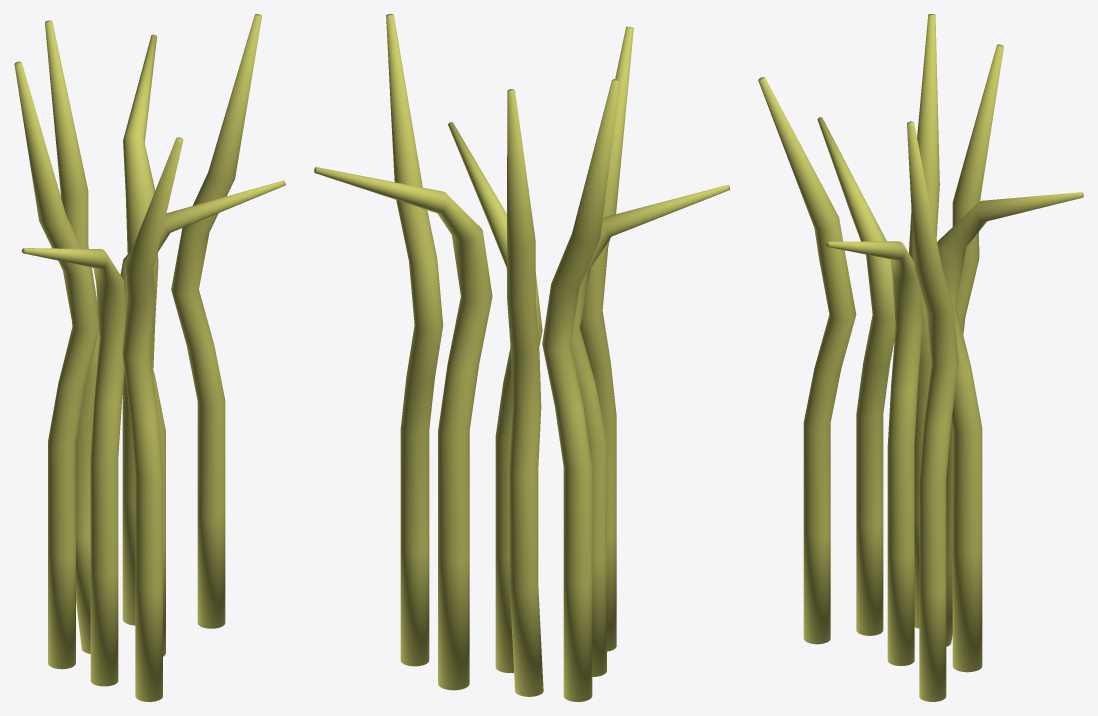
File: WheatSeedling.fbx
3 views of the same model, side by side, from view 1: azimuth 30°, elevation 25°; view 2: azimuth 150°, elevation 25°; view 3: azimuth 270°, elevation 25° (orthographic). The views are drawn at different scales.
Visible parts, largest first — view 1: Cube.007, Cube.077, Cube.191, Cube.115, Cube.039, Cube.229, Cube.153; view 2: Cube.229, Cube.077, Cube.007, Cube.039, Cube.115, Cube.191, Cube.153; view 3: Cube.007, Cube.191, Cube.229, Cube.115, Cube.153, Cube.077, Cube.039.
Boxes of the visible parts, x1,y1,x2,y2 form: Cube.007: (171, 14, 261, 628); Cube.077: (14, 61, 99, 669); Cube.191: (122, 137, 183, 701); Cube.115: (21, 248, 125, 686); Cube.039: (45, 20, 99, 653); Cube.229: (122, 34, 158, 625); Cube.153: (120, 180, 285, 656); Cube.229: (314, 167, 492, 690); Cube.077: (542, 79, 619, 701); Cube.007: (386, 14, 443, 666); Cube.039: (507, 89, 543, 696); Cube.115: (571, 185, 729, 676); Cube.191: (580, 26, 633, 651); Cube.153: (448, 122, 542, 672); Cube.007: (907, 121, 958, 701); Cube.191: (758, 77, 856, 644); Cube.229: (937, 192, 1083, 672); Cube.115: (817, 117, 895, 635); Cube.153: (826, 241, 922, 665); Cube.077: (909, 14, 939, 628); Cube.039: (946, 44, 1003, 646).
Bounding box in the file's own units: 7.58 × 15.41 × 7.7.
